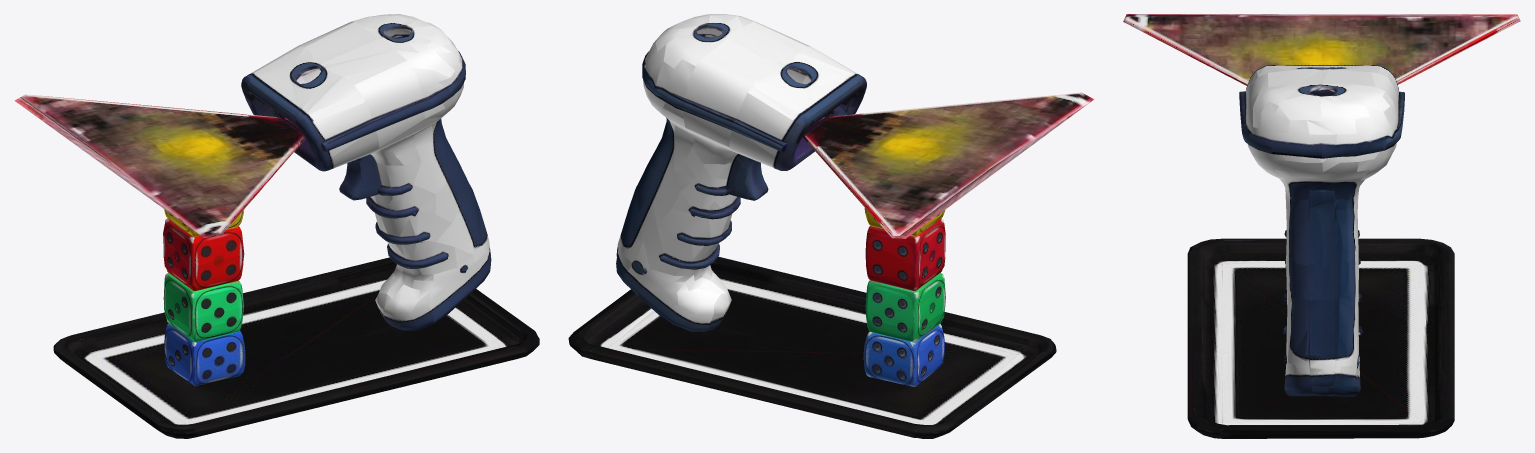
The model's file is inventory.glb.
The picture shows the model from 3 angles, left to right: view 1: azimuth 30°, elevation 25°; view 2: azimuth 150°, elevation 25°; view 3: azimuth 270°, elevation 25°; orthographic projection. The views are drawn at different scales.
Size of the model in its own units: 1 by 0.7578 by 0.8789.
Materials: 1 (1 with a texture image).
